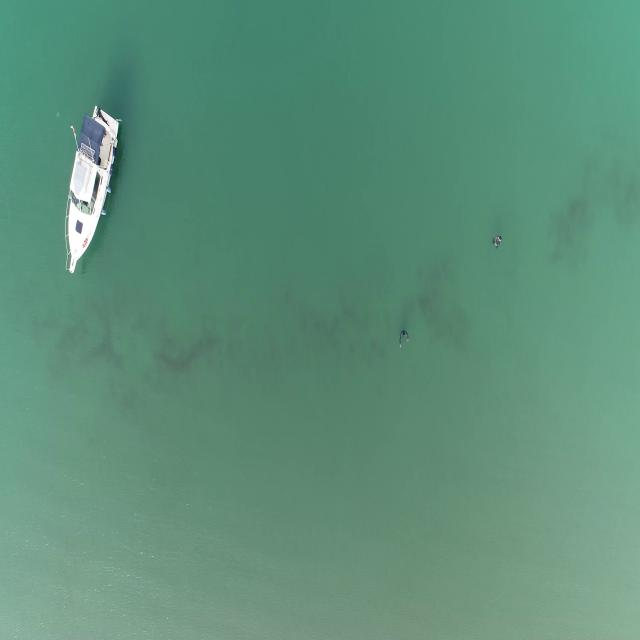boat: (60, 105, 120, 279)
person: (398, 327, 412, 349), (491, 232, 502, 258)
